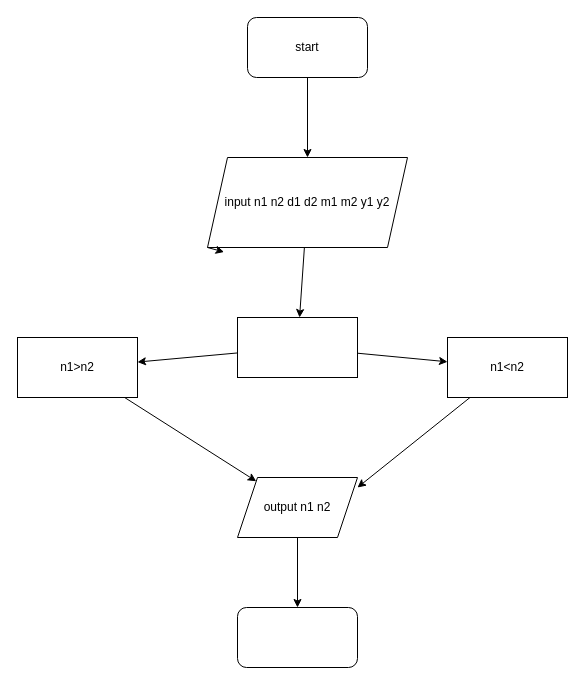
Image size: 585x685. Some labels were removed from this diagram. Each missing label, with the centre of its shape:
"end" goes at (x=297, y=637).
"so sanh n1 va n2" goes at (x=297, y=347).
